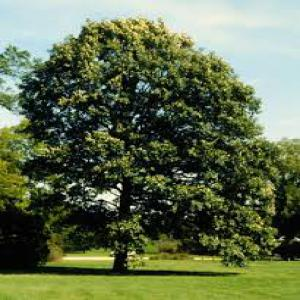Tree: (18, 13, 282, 272)
